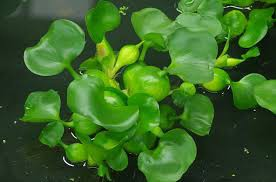water_hyacinth: (19, 0, 276, 182)
